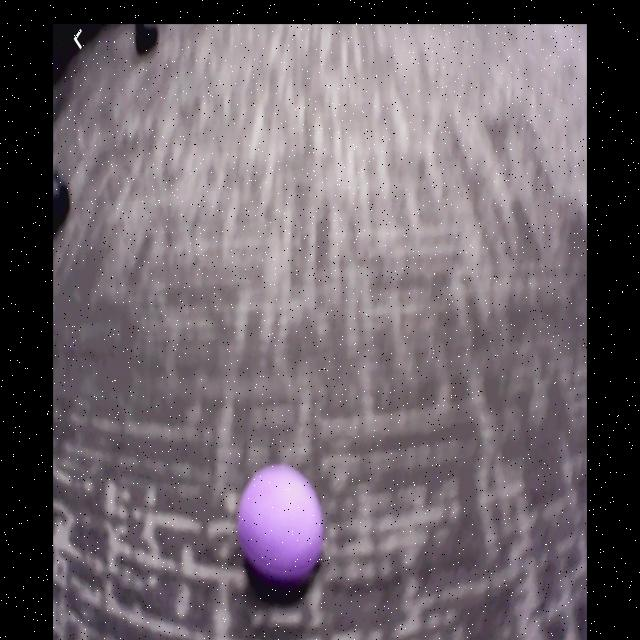ball: (237, 469, 324, 581)
